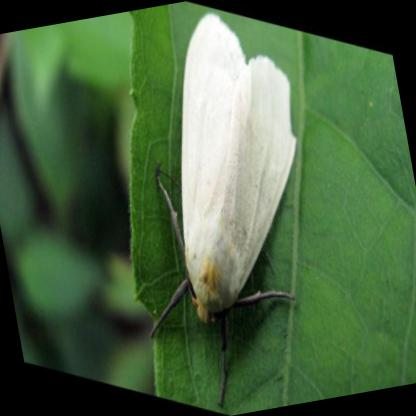whitefly: (182, 13, 294, 322)
